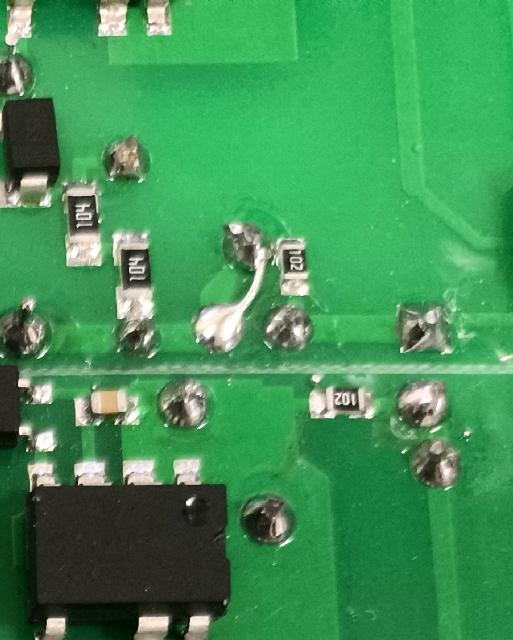chip-capacitor: (72, 388, 144, 427)
chip-resistor: (60, 176, 107, 268), (111, 230, 158, 321), (305, 385, 376, 420), (273, 235, 311, 297)
diode: (0, 96, 64, 211)
ic: (22, 459, 233, 640)
